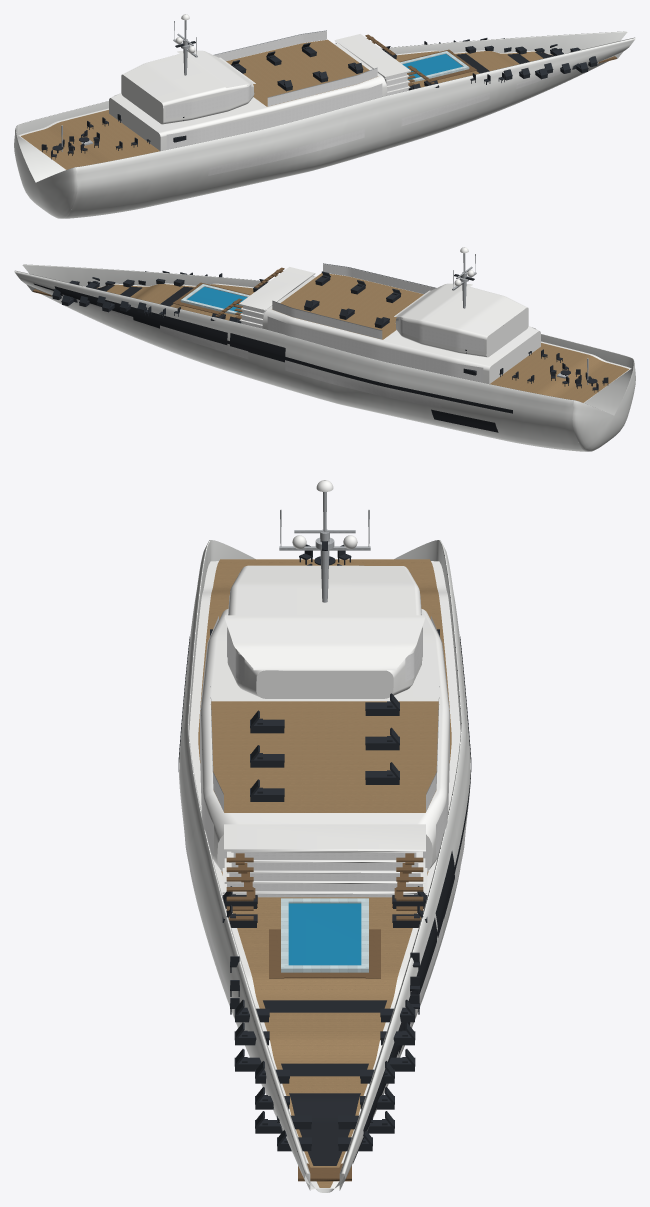
Rendered from yacht.glb.
The picture shows the model from 3 angles, top to bottom: view 1: azimuth 30°, elevation 25°; view 2: azimuth 150°, elevation 25°; view 3: azimuth 270°, elevation 25°; orthographic projection. The views are drawn at different scales.
Parts seen in each view (by area): view 1: hull, main_deck, sundeck, bridge_house, deckhouse, house_glazing_stbd, transom, hull_window_stbd, tower_cap, bridge_visor, bridge_glazing_stbd, sundeck_balustrade_stbd (+6 smaller); view 2: hull, main_deck, sundeck, bridge_house, deckhouse, house_glazing_port, transom, knuckle_accent_port, hull_window_port, tower_cap, hull_facet_port, bridge_visor (+10 smaller); view 3: sundeck, main_deck, hull, deckhouse, bridge_house, bridge_visor, deck_margin, tower_cap, pool_water, bridge_house_front, sunpad_platform, inlay_t1 (+7 smaller).
Boxes of the visible parts, bbox=[...] form: hull: bbox=[17, 31, 635, 218]; main_deck: bbox=[21, 51, 552, 169]; sundeck: bbox=[226, 39, 377, 106]; bridge_house: bbox=[122, 54, 254, 124]; deckhouse: bbox=[111, 43, 387, 150]; house_glazing_stbd: bbox=[166, 83, 382, 149]; transom: bbox=[14, 125, 77, 218]; hull_window_stbd: bbox=[208, 129, 364, 175]; tower_cap: bbox=[334, 34, 410, 77]; bridge_visor: bbox=[177, 50, 255, 87]; bridge_glazing_stbd: bbox=[165, 84, 251, 118]; sundeck_balustrade_stbd: bbox=[267, 68, 377, 106]; hull: bbox=[14, 264, 632, 451]; main_deck: bbox=[97, 284, 628, 402]; sundeck: bbox=[272, 273, 423, 339]; bridge_house: bbox=[395, 287, 527, 357]; deckhouse: bbox=[262, 276, 538, 383]; house_glazing_port: bbox=[267, 316, 483, 382]; transom: bbox=[572, 358, 635, 451]; knuckle_accent_port: bbox=[33, 283, 512, 413]; hull_window_port: bbox=[285, 362, 441, 408]; tower_cap: bbox=[239, 267, 315, 310]; hull_facet_port: bbox=[54, 286, 227, 344]; bridge_visor: bbox=[394, 283, 472, 320]; sundeck: bbox=[210, 701, 439, 812]; main_deck: bbox=[198, 559, 451, 1187]; hull: bbox=[179, 541, 470, 1192]; deckhouse: bbox=[200, 609, 449, 868]; bridge_house: bbox=[227, 565, 422, 696]; bridge_visor: bbox=[224, 615, 425, 670]; deck_margin: bbox=[189, 561, 460, 1189]; tower_cap: bbox=[224, 824, 425, 851]; pool_water: bbox=[288, 903, 361, 965]; bridge_house_front: bbox=[256, 670, 393, 698]; sunpad_platform: bbox=[289, 1093, 360, 1165]; inlay_t1: bbox=[263, 1000, 386, 1012].
Bounding box in the file's own units: 81.06 × 21.83 × 17.25.
11 materials, 6 textured.
